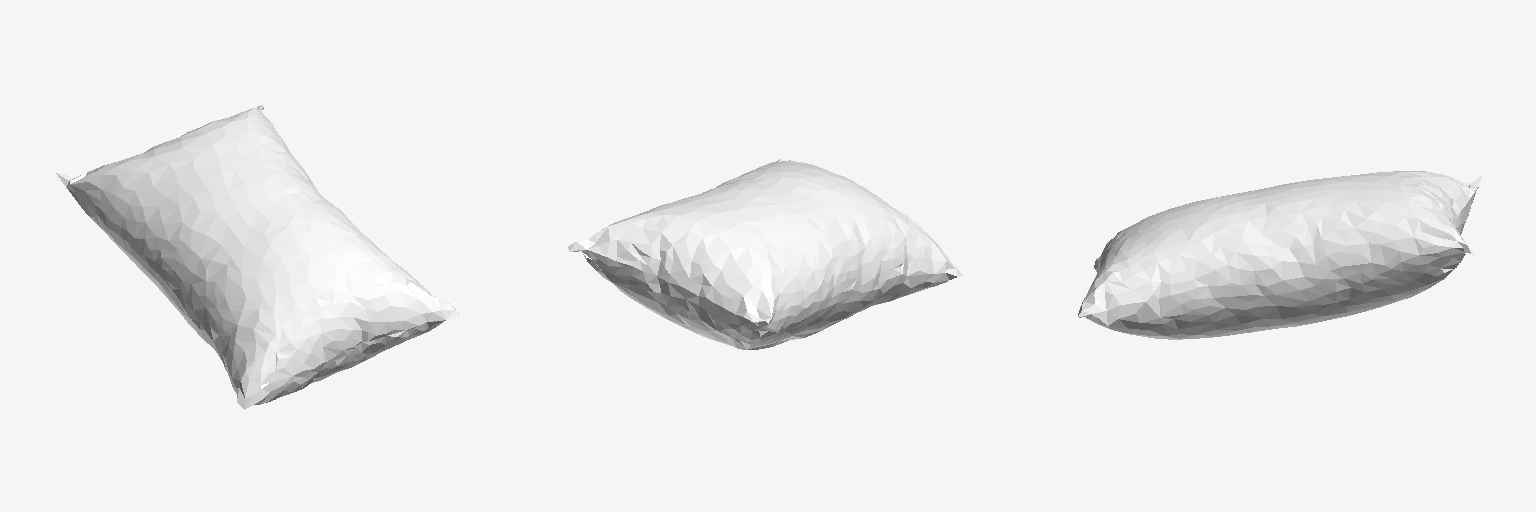
File: pillow_2k.obj
The picture shows the model from 3 angles: view 1: azimuth 30°, elevation 25°; view 2: azimuth 150°, elevation 25°; view 3: azimuth 270°, elevation 25°; orthographic projection.
Parts seen in each view (by area): view 1: pillow_2k; view 2: pillow_2k; view 3: pillow_2k.
Boxes of the visible parts, box(x1,y1,x2,y2) form: pillow_2k: box(56, 105, 459, 409); pillow_2k: box(568, 159, 962, 349); pillow_2k: box(1078, 171, 1481, 339).
Size of the model in its own units: 14.11 by 10.04 by 23.63.